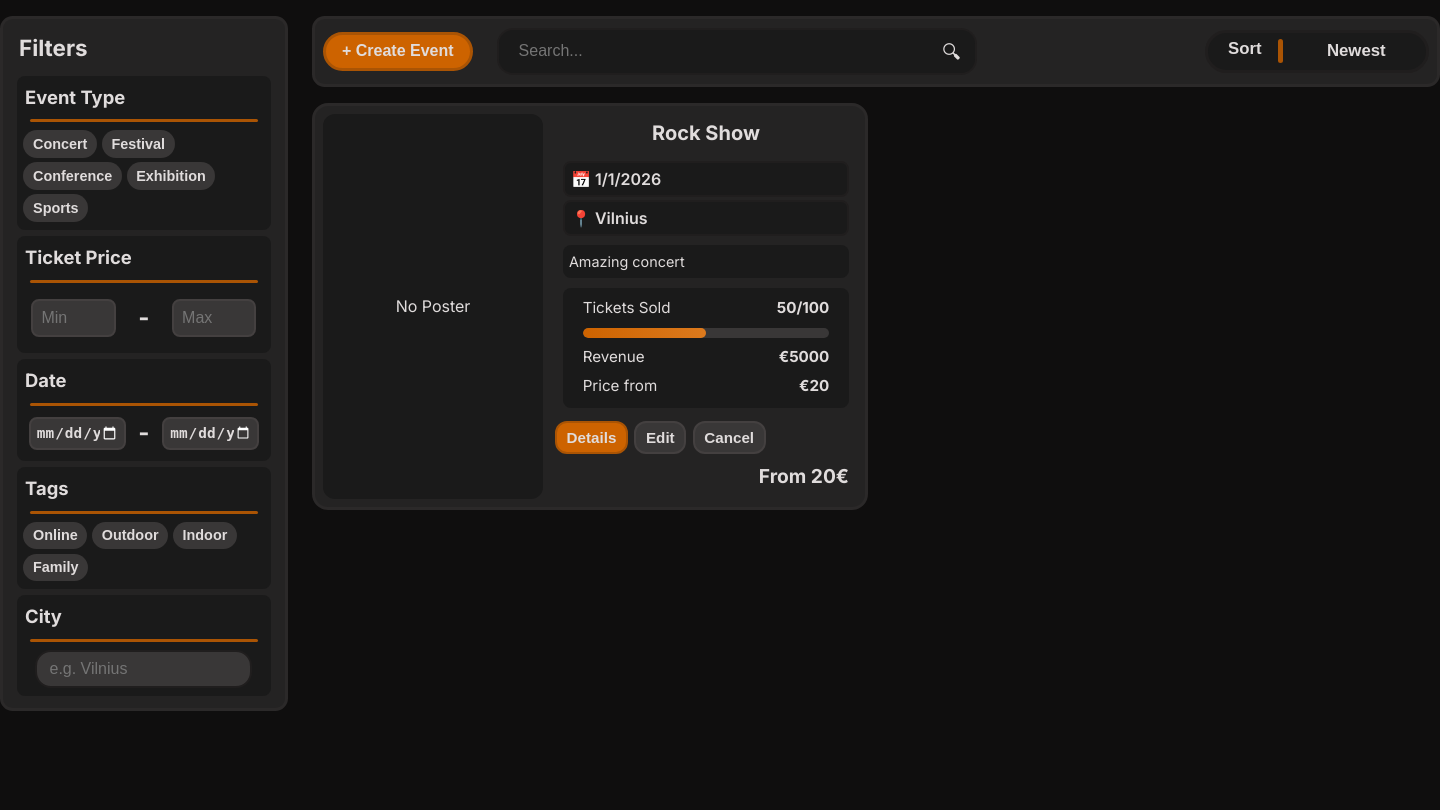
Scenario: MyEventsList › opens delete modal
The width and height of the screenshot is (1440, 810).
Expected: the text "Rock Show" is shown, [652,118,760,148]
Click the button "Cancel" at (729, 437), box [693,420,766,454]
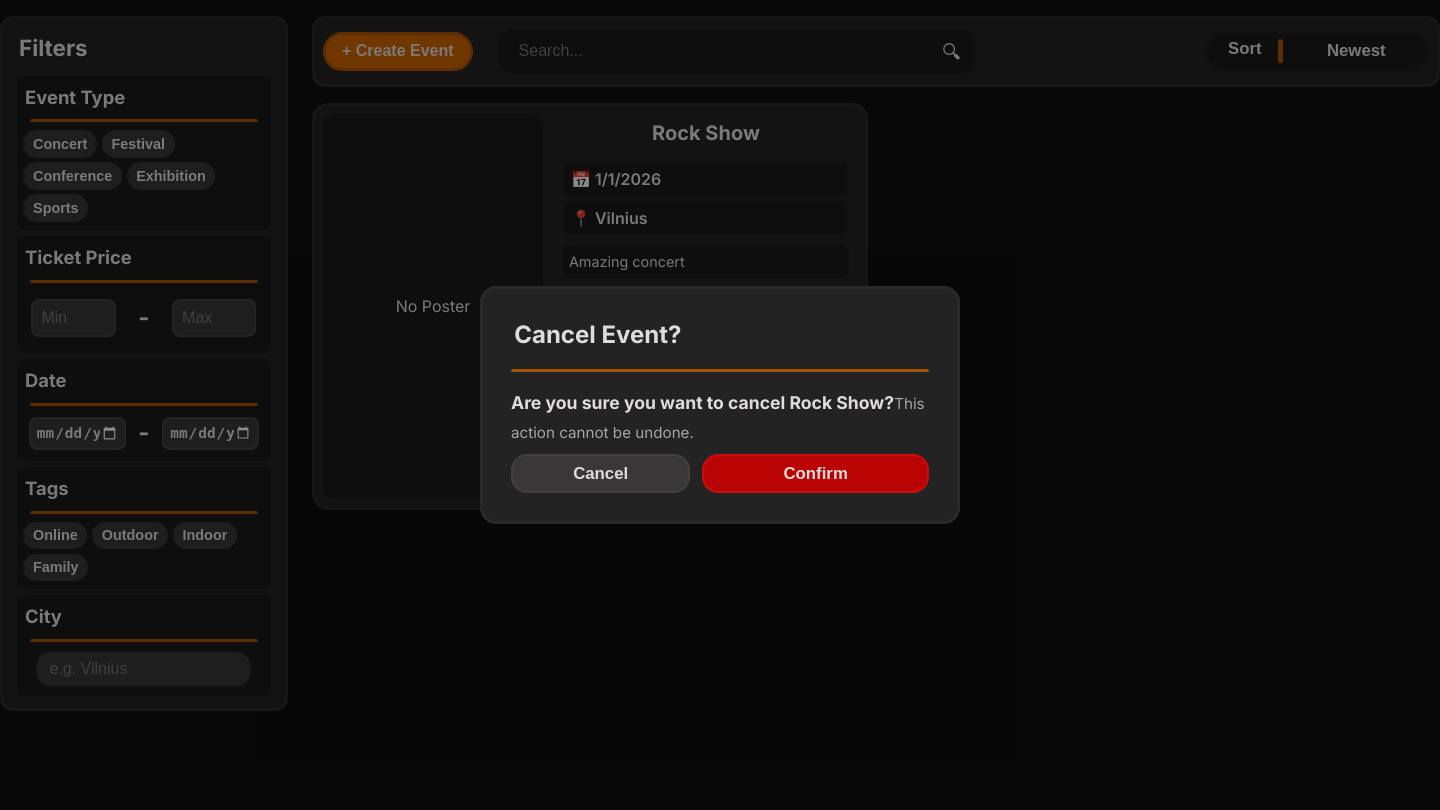
Expected: the text "Cancel Event?" is shown, [514,320,681,349]
